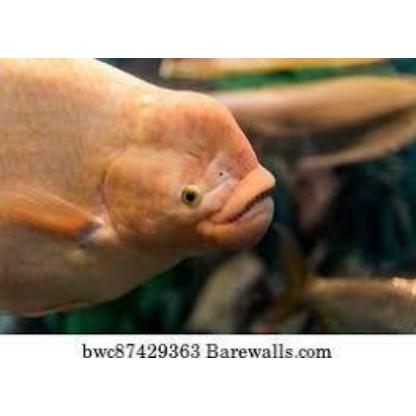gurame: (0, 57, 272, 306)
